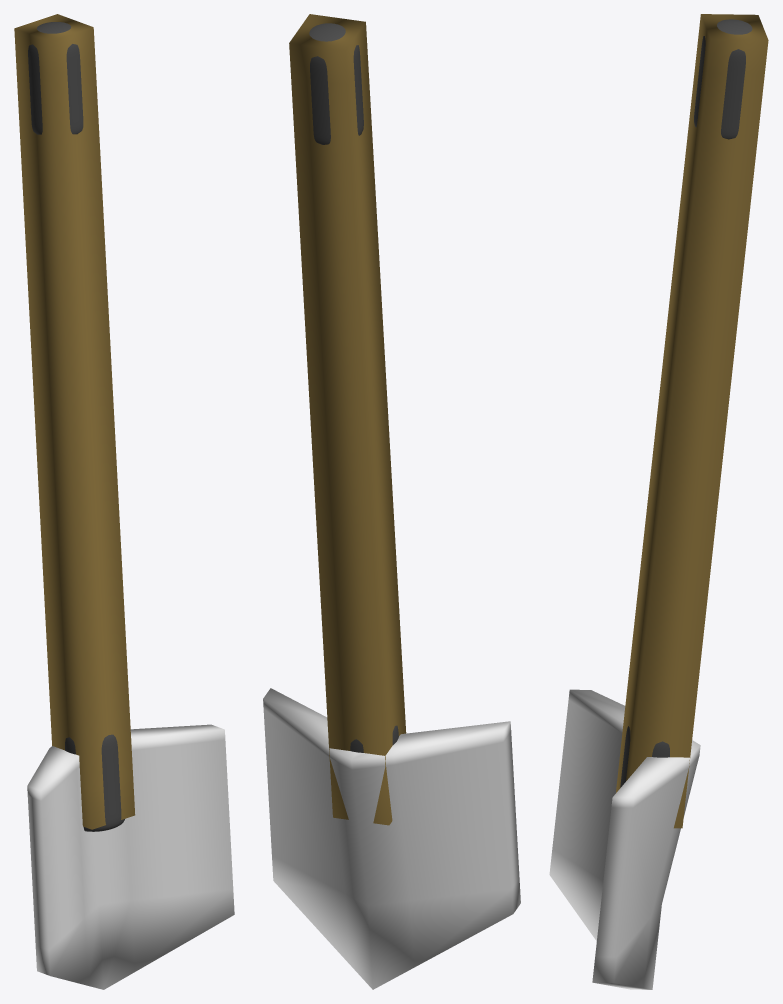
Rendered from casiita.glb.
3 views of the same model, side by side, from view 1: azimuth 30°, elevation 25°; view 2: azimuth 150°, elevation 25°; view 3: azimuth 270°, elevation 25° (orthographic). The views are drawn at different scales.
Visible parts, largest first — view 1: Cube, metallic part, Cube.001, Cube.002; view 2: Cube, metallic part, Cube.001; view 3: Cube, metallic part, Cube.001, Cube.002.
Boxes of the visible parts, bbox=[...] form: Cube: bbox=[14, 14, 135, 829]; metallic part: bbox=[27, 724, 234, 989]; Cube.001: bbox=[28, 22, 83, 134]; Cube.002: bbox=[65, 734, 124, 831]; Cube: bbox=[289, 14, 406, 825]; metallic part: bbox=[263, 688, 520, 989]; Cube.001: bbox=[309, 23, 363, 144]; Cube: bbox=[616, 14, 768, 828]; metallic part: bbox=[549, 689, 700, 989]; Cube.001: bbox=[694, 19, 752, 139]; Cube.002: bbox=[620, 726, 669, 787].
Size of the model in its own units: 1.42 by 6.08 by 1.25.
